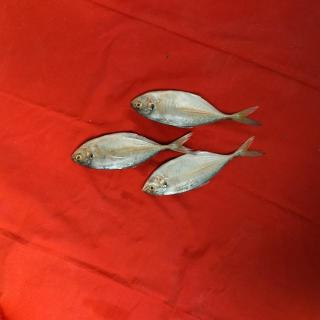Ikan: (62, 86, 271, 201)
